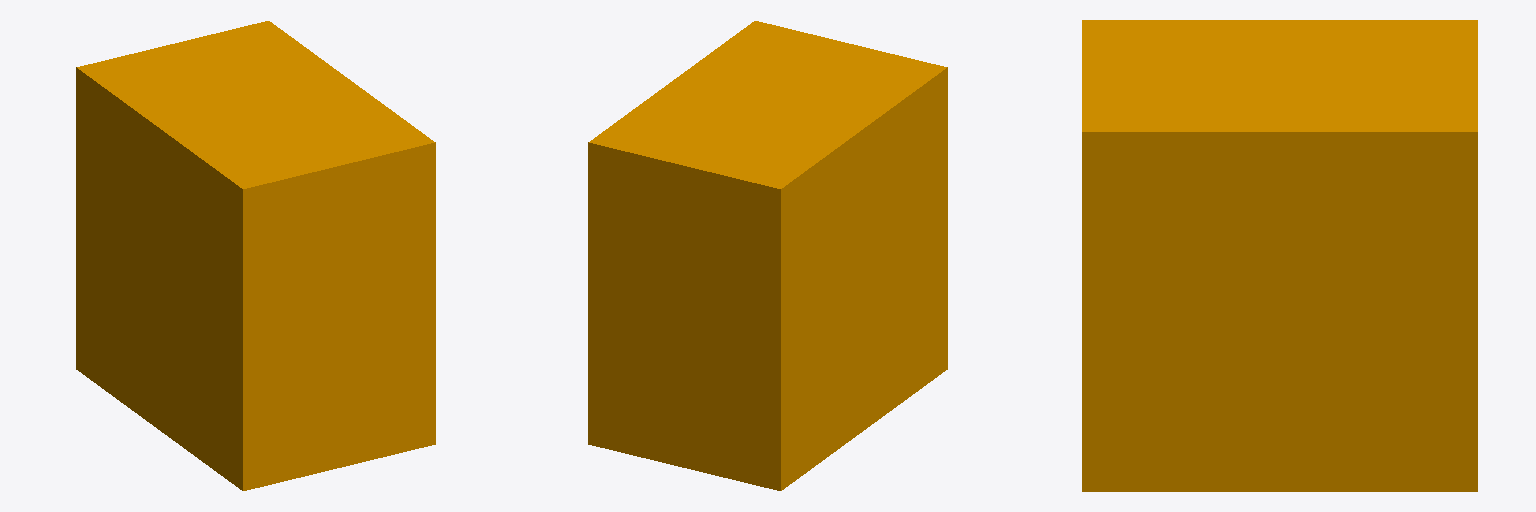
The robot description file, URDF, robot "simple_box":
<robot name="simple_box">
  <link name="my_box">
    <inertial>
      <origin xyz="0 0 0" />
      <mass value="1.0" />
      <inertia  ixx="1.0" ixy="0.0"  ixz="0.0"  iyy="100.0"  iyz="0.0"  izz="1.0" />
    </inertial>
    <visual>
      <origin xyz="0 0 0"/>
      <geometry>
        <box size="0.4 0.6 0.6" />
      </geometry>
    </visual>
    <collision>
      <origin xyz="0 0 0"/>
      <geometry>
        <box size="0.4 0.6 0.6" />
      </geometry>
    </collision>
  </link>
  <gazebo reference="my_box">
    <material>Gazebo/Purple</material>
  </gazebo>
</robot>

--- Facts derived from the render (not from the file) ---
Views: 3 orthographic renders of the robot side by side, from view 1: azimuth 30°, elevation 25°; view 2: azimuth 150°, elevation 25°; view 3: azimuth 270°, elevation 25°.
Model simple_box with 1 links and 0 joints (none), rooted at my_box, posed every joint at zero.
Links seen in each view (by area): view 1: my_box; view 2: my_box; view 3: my_box.
Boxes of the visible links, x1=… form: my_box: x1=76, y1=21, x2=435, y2=490; my_box: x1=588, y1=21, x2=947, y2=490; my_box: x1=1082, y1=20, x2=1477, y2=491.
Bounding box of the posed robot: 0.4 × 0.6 × 0.6 m (x, y, z).
Geometry: primitives only (box / cylinder / sphere), no mesh files.
